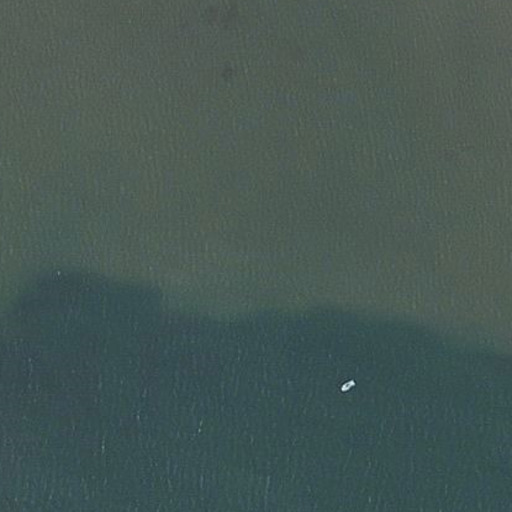ship: (338, 377, 358, 396)
